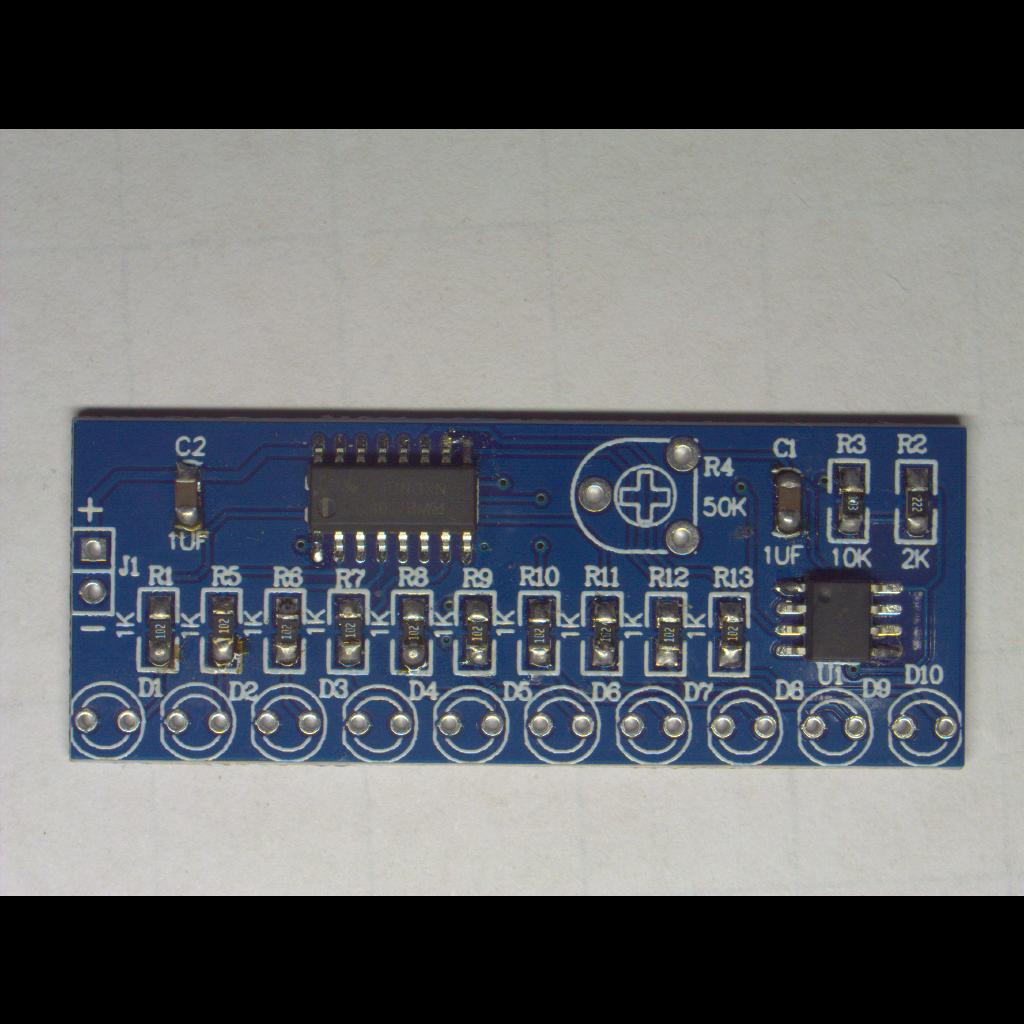OK: (303, 424, 485, 574), (768, 566, 914, 670), (450, 589, 498, 675), (388, 588, 436, 674), (706, 592, 754, 676), (644, 591, 692, 675), (326, 587, 372, 673), (826, 456, 872, 542), (893, 457, 939, 543), (578, 590, 624, 674), (202, 590, 246, 670), (140, 586, 180, 672), (519, 588, 559, 674), (170, 451, 208, 537), (267, 591, 305, 673), (772, 462, 806, 542)
